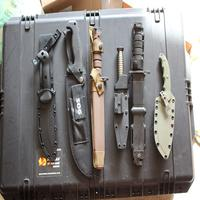knife: (60, 19, 93, 182), (34, 29, 63, 171), (86, 21, 111, 182), (129, 20, 149, 177), (152, 51, 179, 163), (111, 41, 132, 158)
